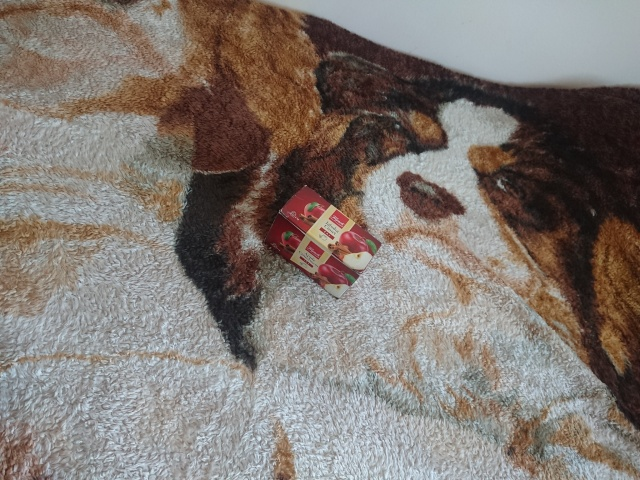Franck Apple Cinnamon Tea 60g: (261, 182, 383, 301)
